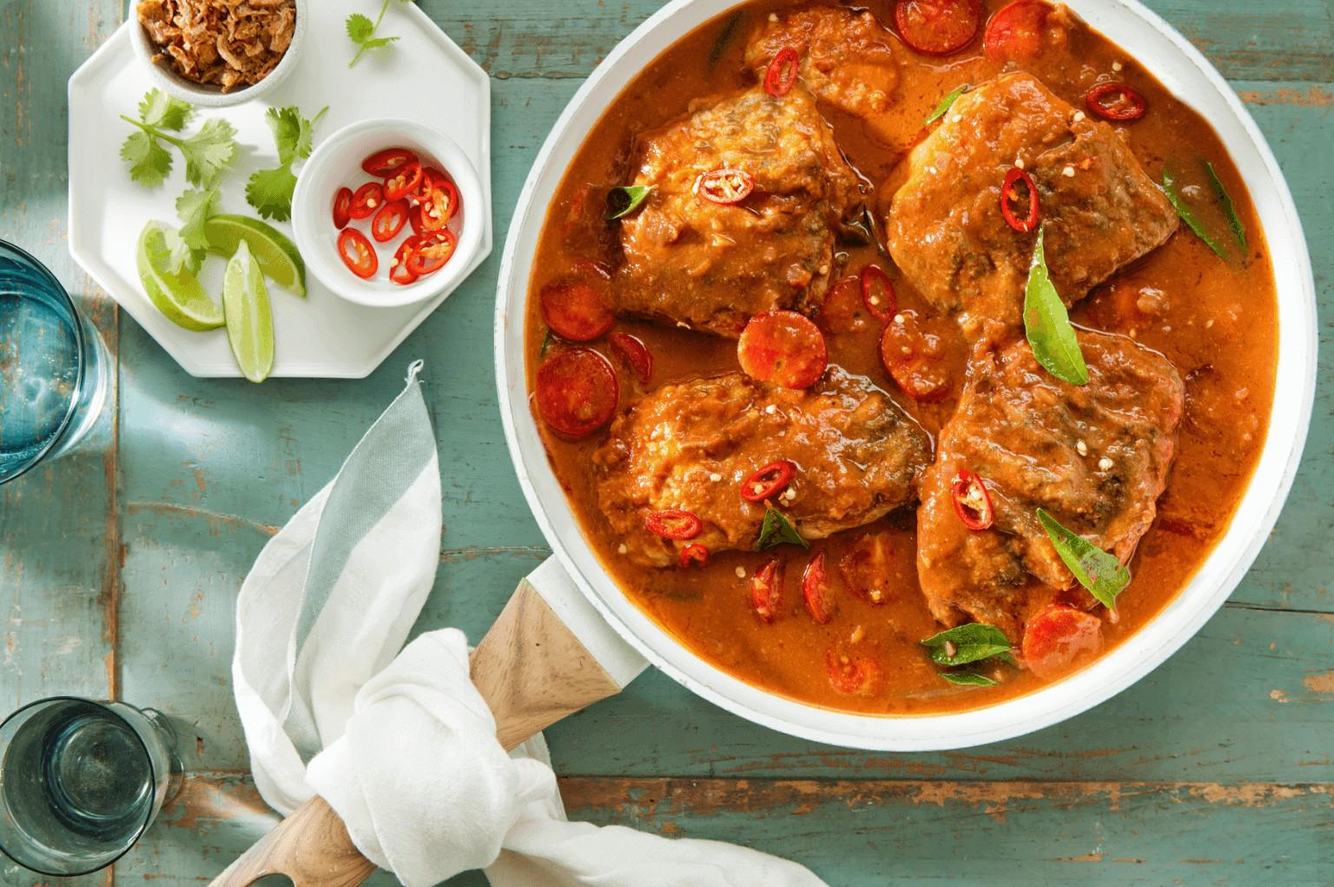FishCurry: (532, 0, 1272, 714)
